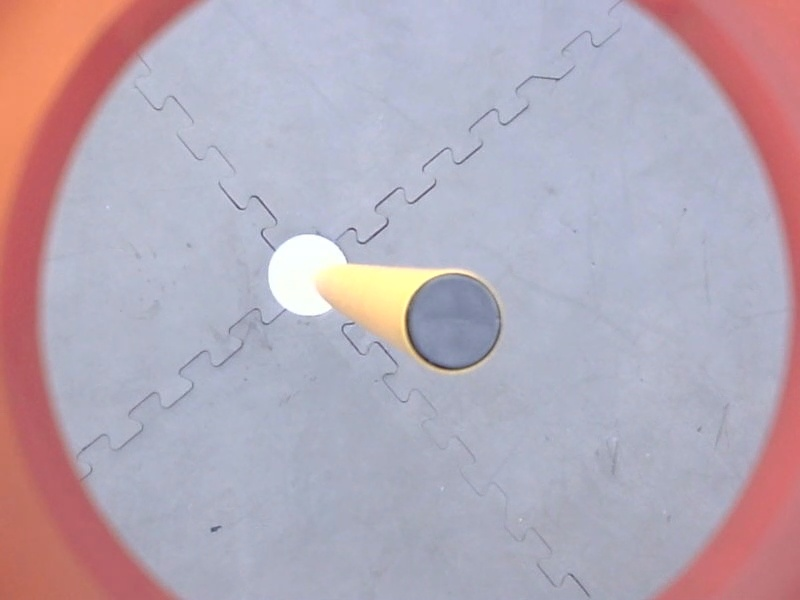tip: (400, 264, 511, 380)
